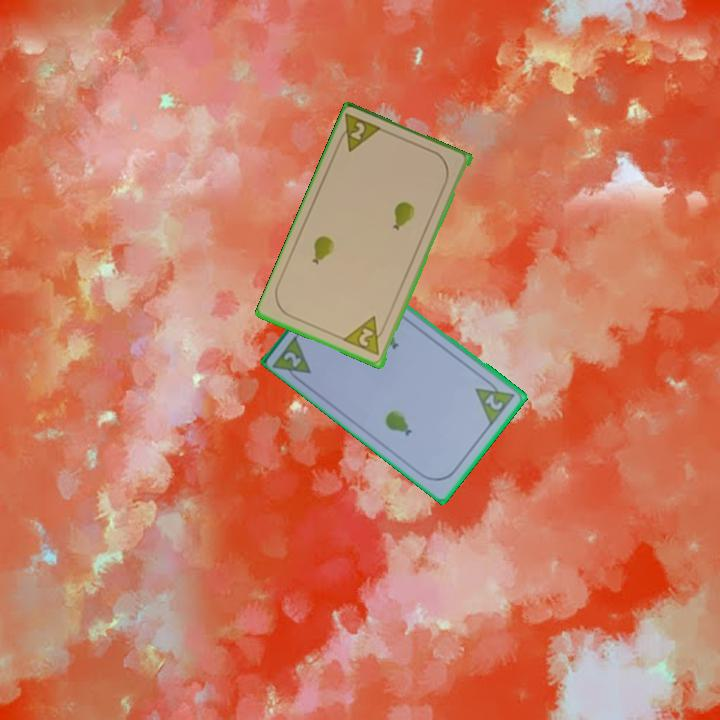2p: (472, 374, 518, 428), (333, 110, 386, 156), (341, 313, 389, 359), (280, 348, 305, 371)
